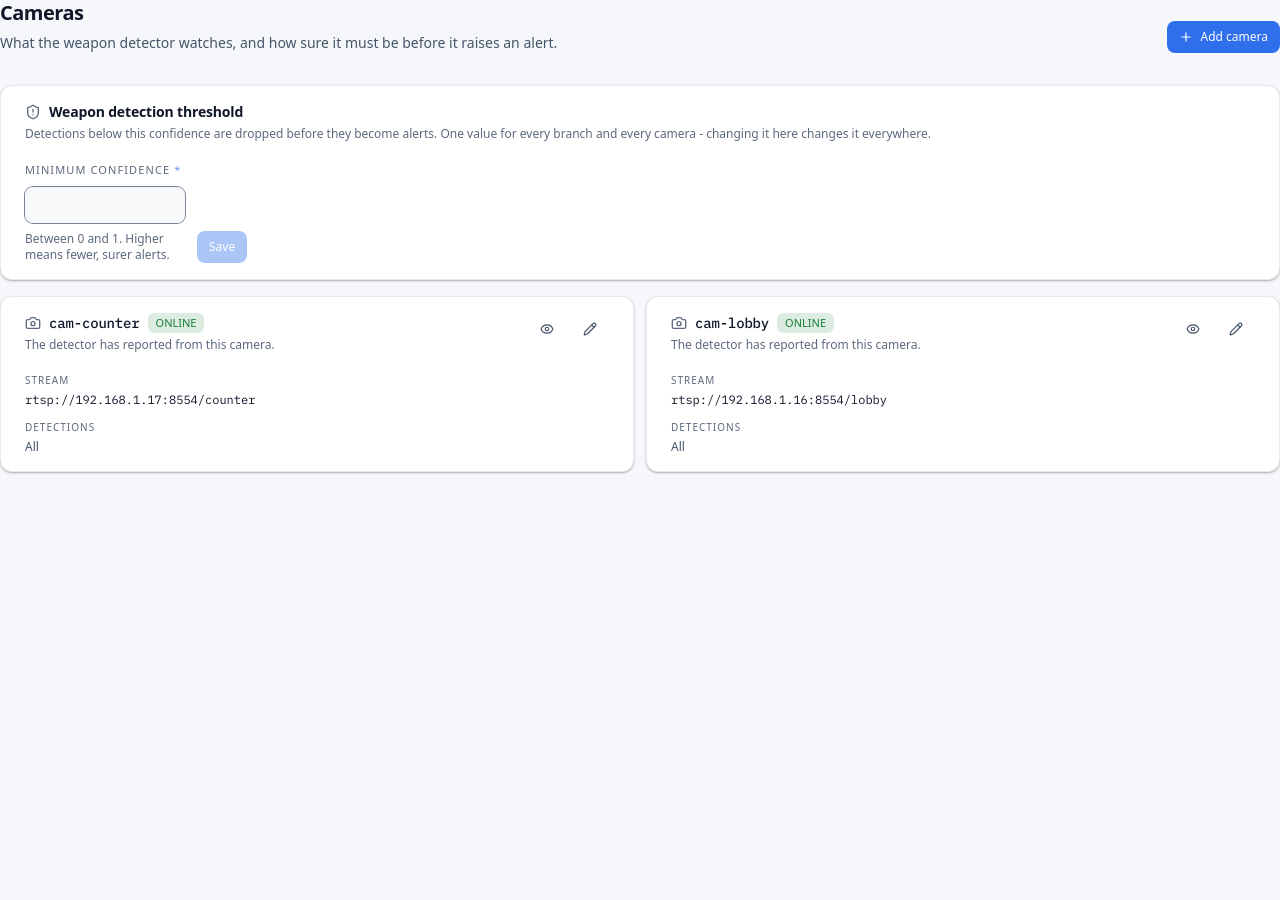
Cameras › explains a name clash with a camera at another branch
Expected: the heading "cam-lobby" is shown, 695,313 -> 769,333
Click the button "Add camera" at point(1223, 37), box 1166,21 -> 1279,53
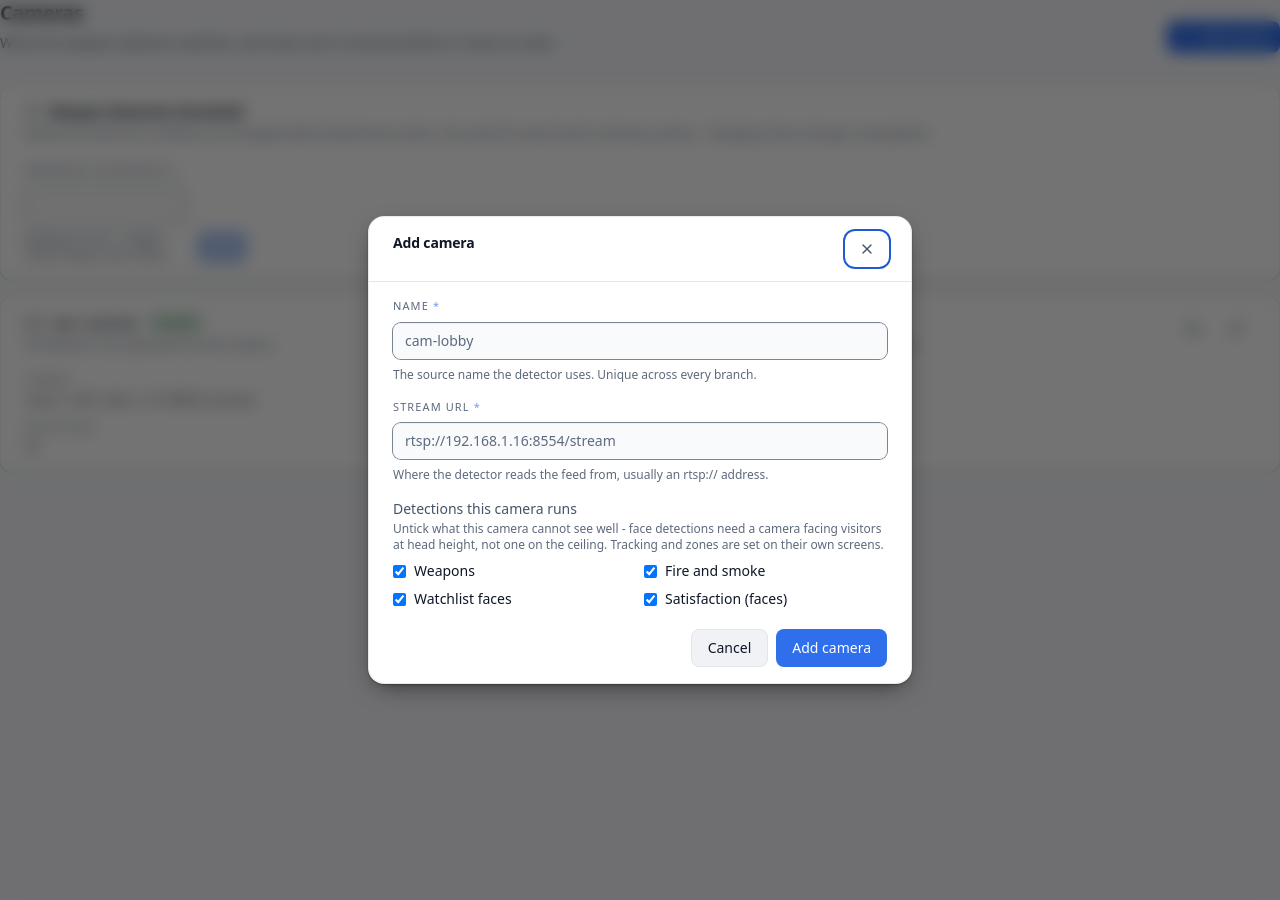
Type "cam-store" into the field labelled "Name*" at point(640, 340), box 393,322 -> 887,358
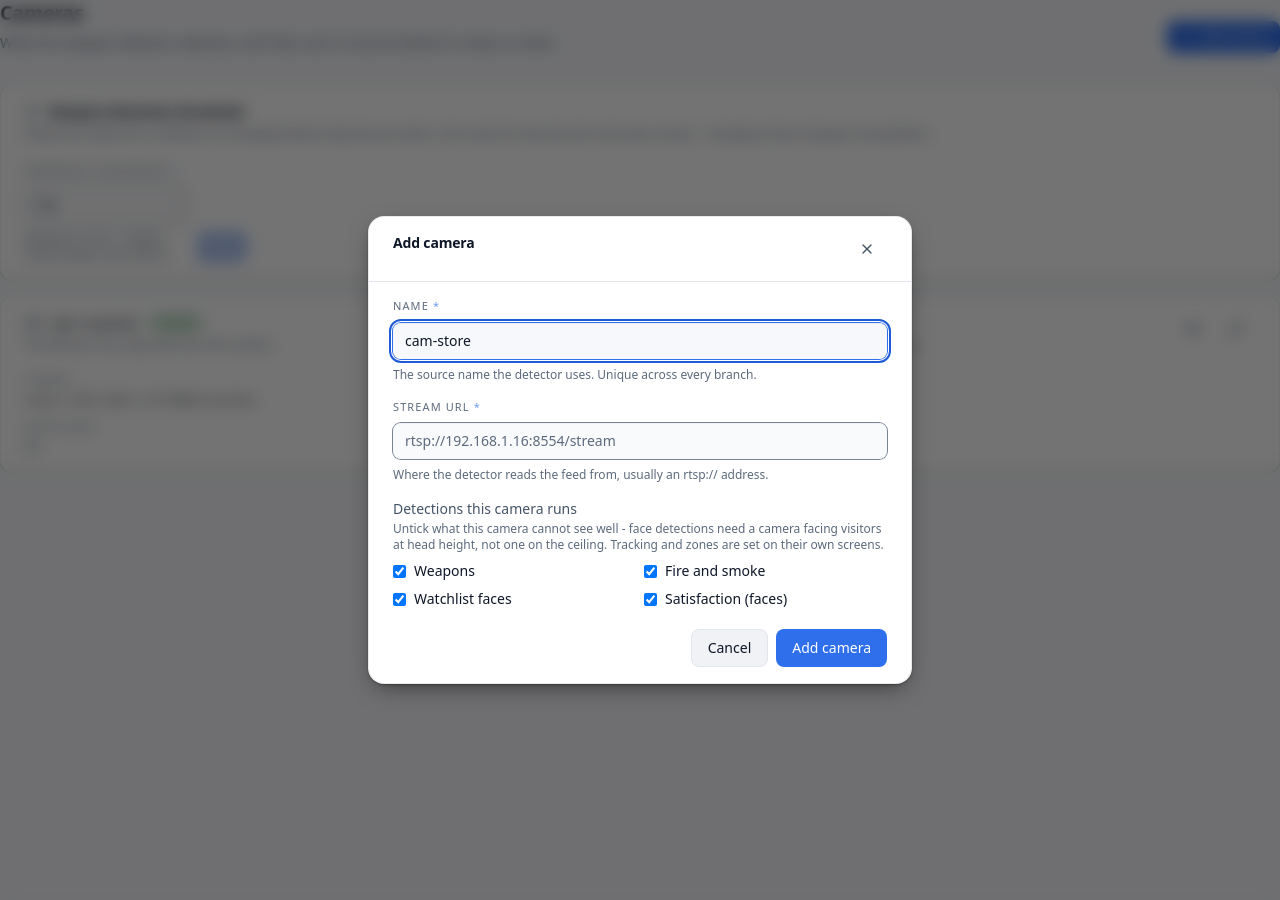
Type "rtsp://x" into the field labelled "Stream URL*" at point(640, 441), box 393,423 -> 887,459
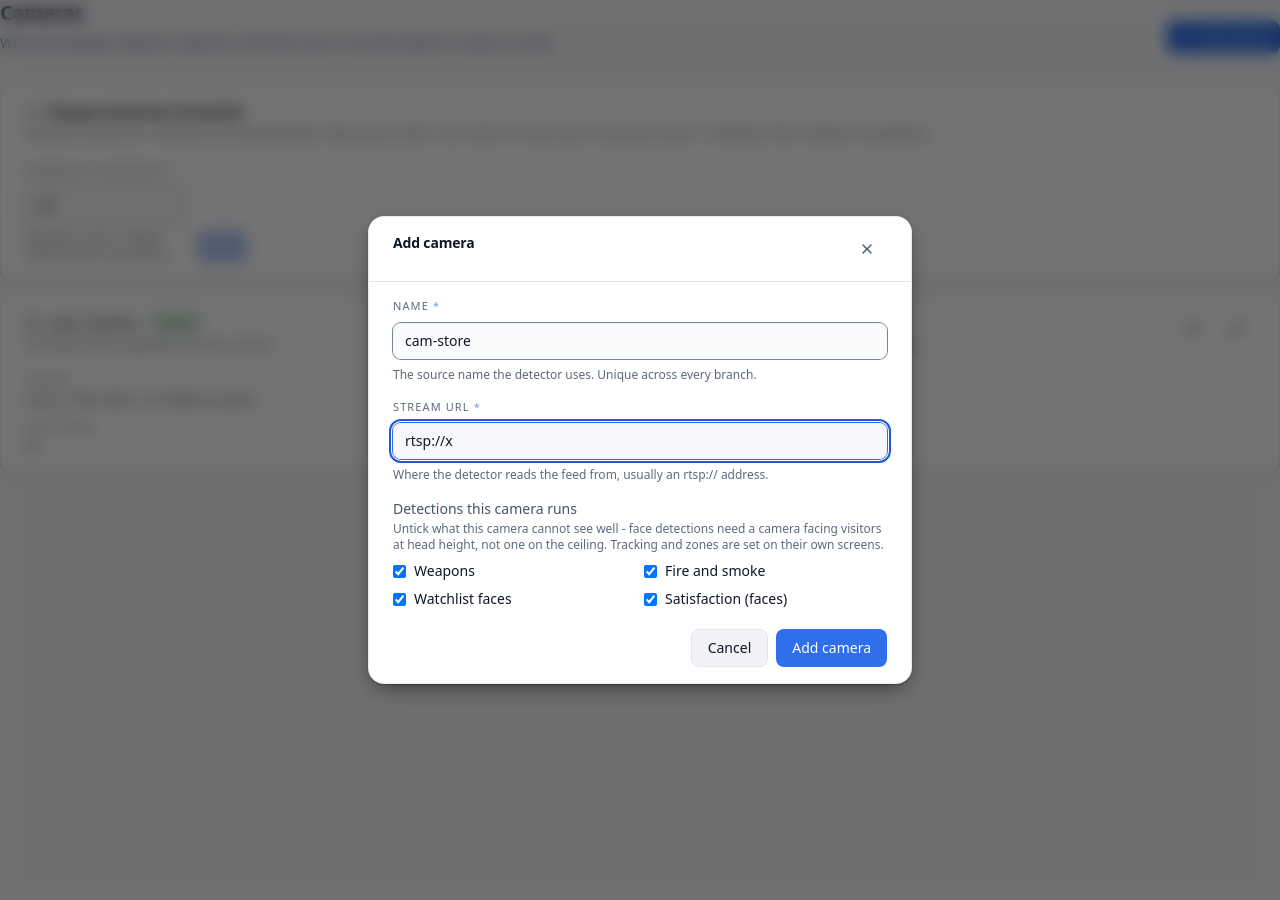
Click the button "Add camera" at point(832, 648), box 776,629 -> 887,667
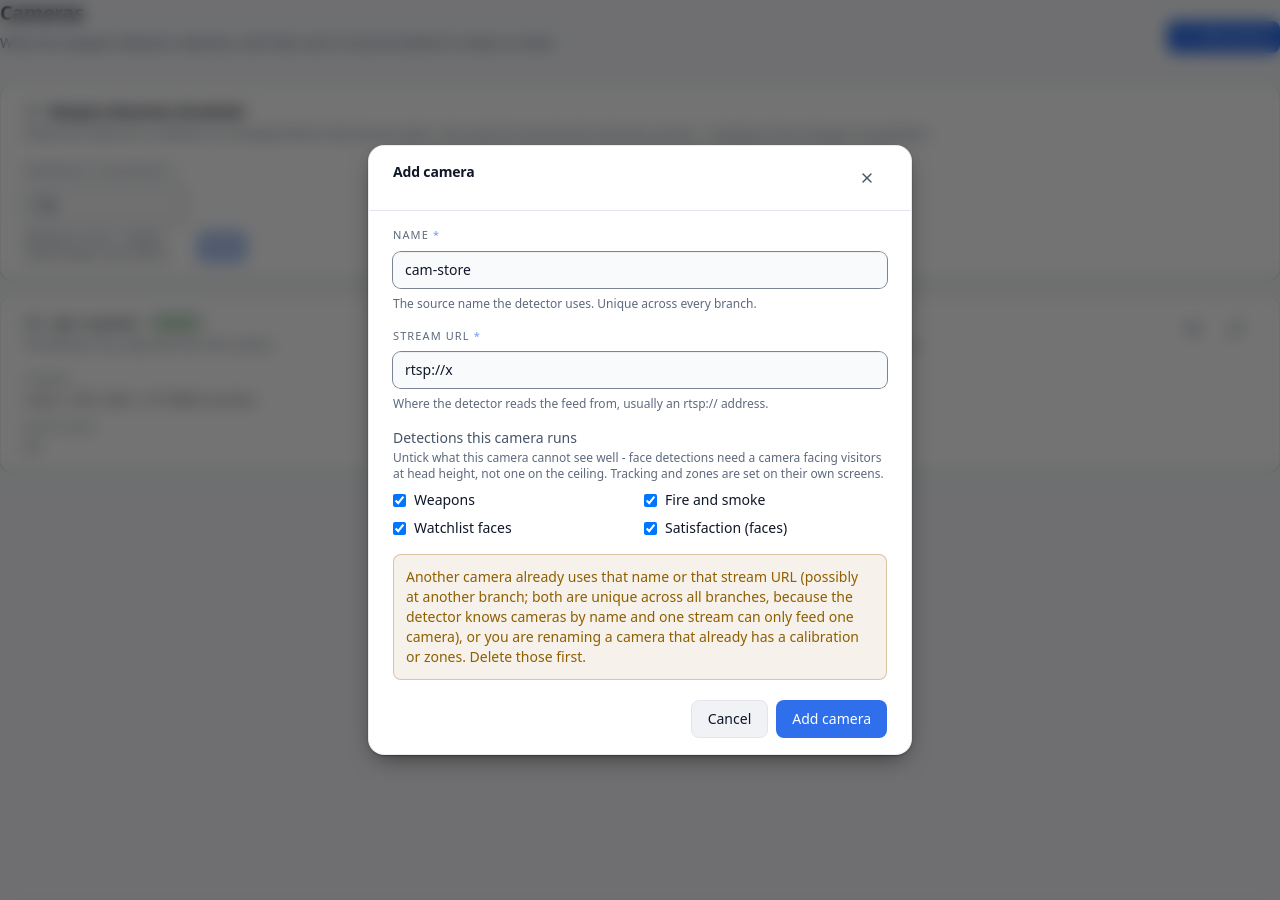
Expected: the message shows "already uses that name or that stream URL", 406,567 -> 859,666
